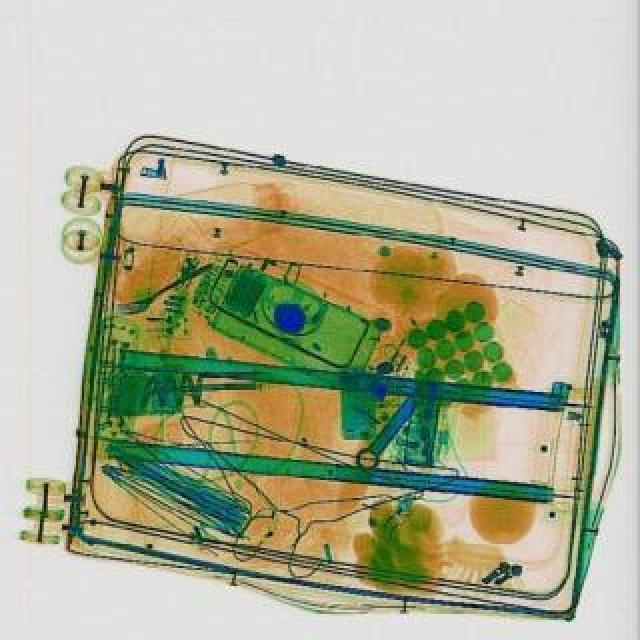scissors: (350, 382, 434, 474)
